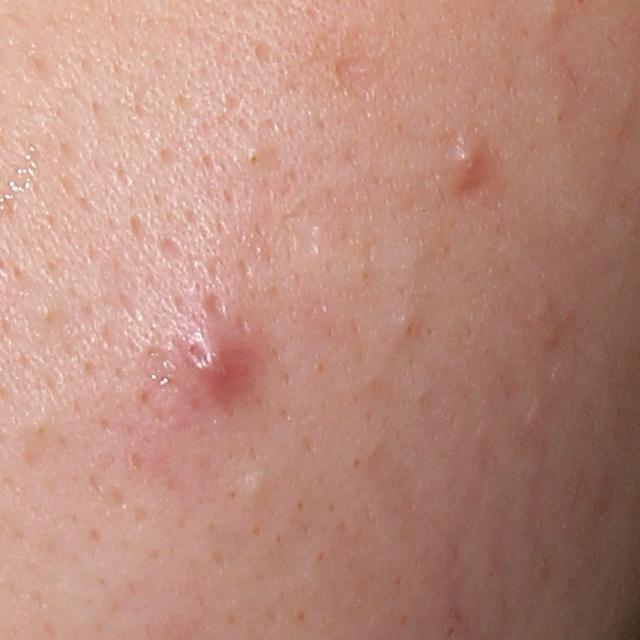atrophic_scar: (151, 233, 187, 272), (196, 288, 231, 321), (250, 36, 277, 63)
comedo: (390, 310, 425, 345), (238, 468, 270, 504), (34, 301, 62, 328), (244, 145, 263, 172)
papule: (190, 330, 245, 400), (452, 141, 486, 181)
